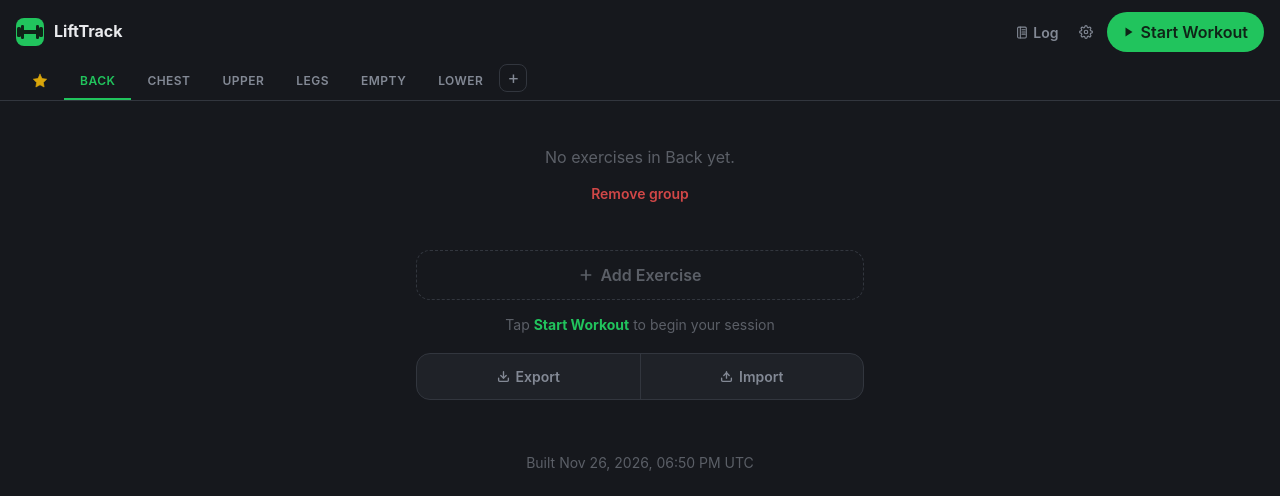
Scenario: remove group › clicking remove group shows the confirmation UI
Click the button with test id "tab-empty" at [384, 82], box [345,64,422,100]
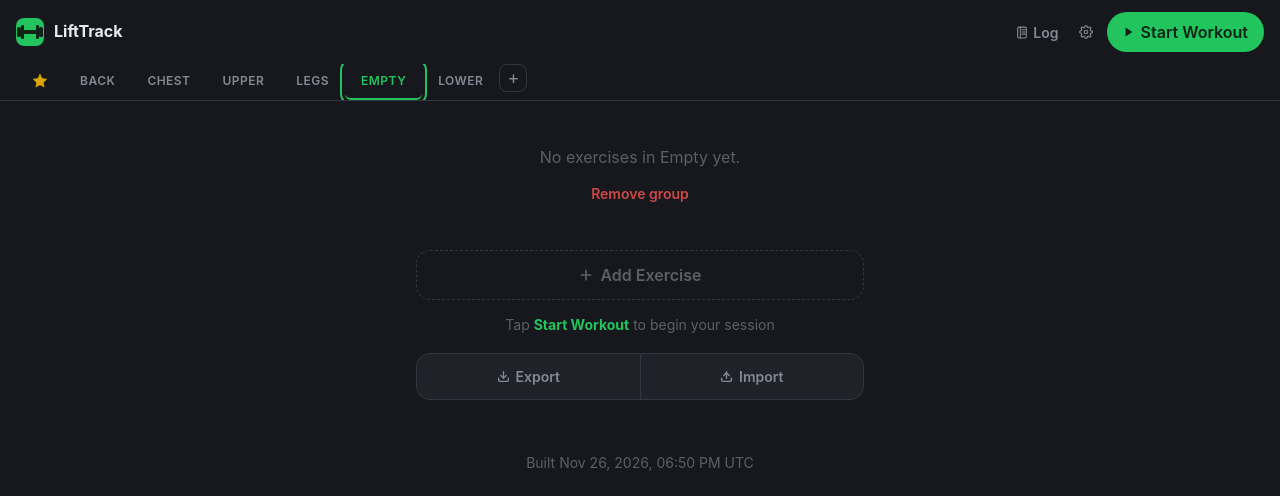
Click the button with test id "btn-remove-group" at [640, 194], box [591,183,689,204]
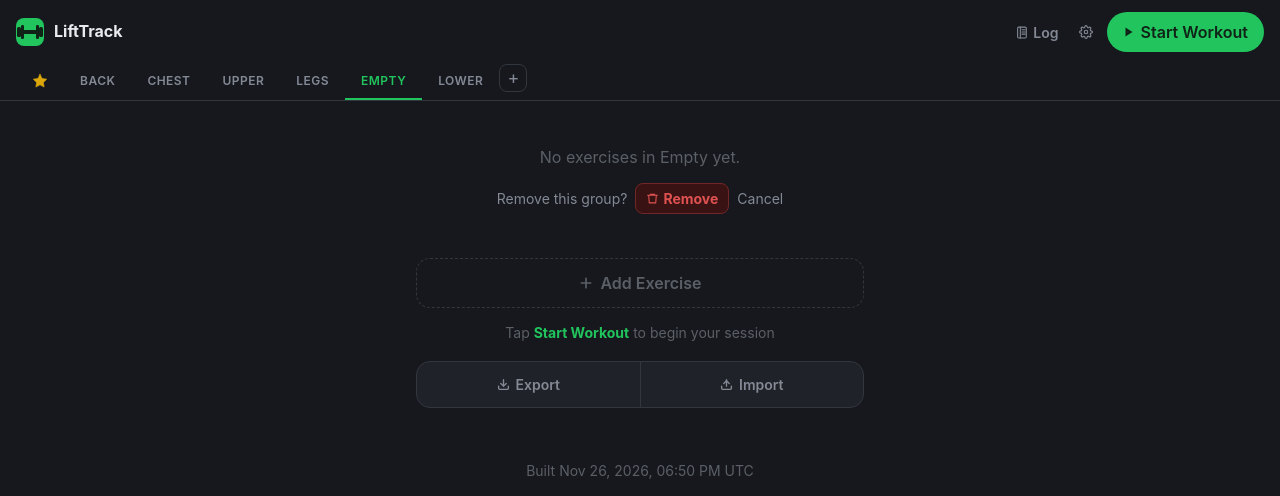
Now the button with test id "btn-remove-group-confirm" is shown, box [635,183,729,214]
Now the button with test id "btn-remove-group-cancel" is shown, box [737,188,783,209]
